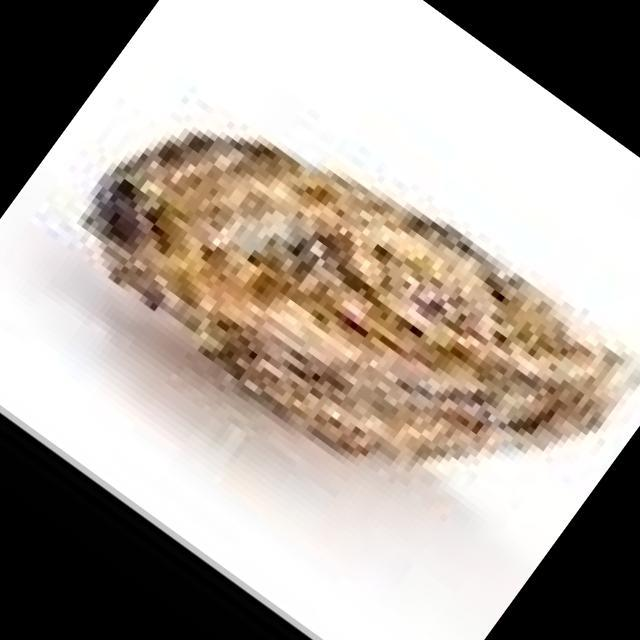Oyster- Indeterminate: (81, 131, 634, 463)
